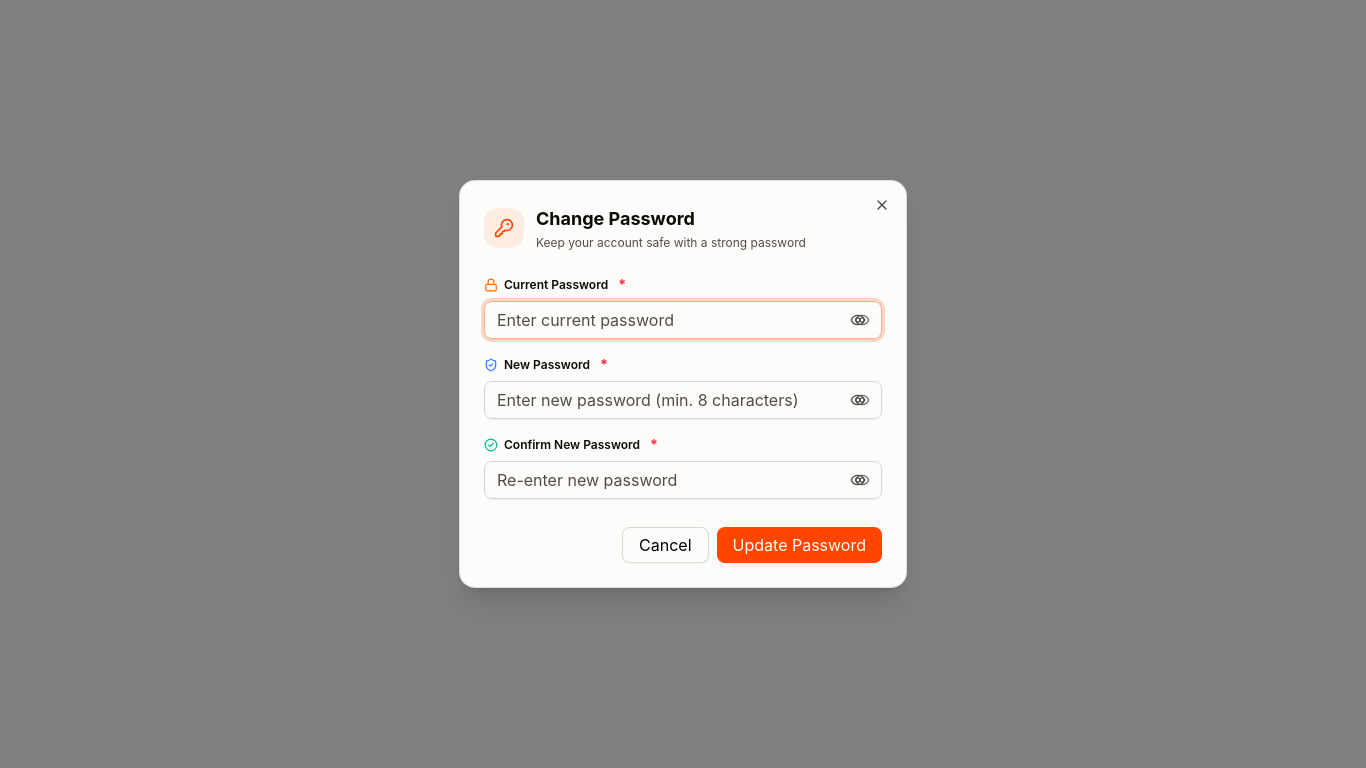
Test case: ChangePasswordDialog › toggles current password visibility on eye button click
Click the button named "Show current password": (858, 320) [846,308,870,332]
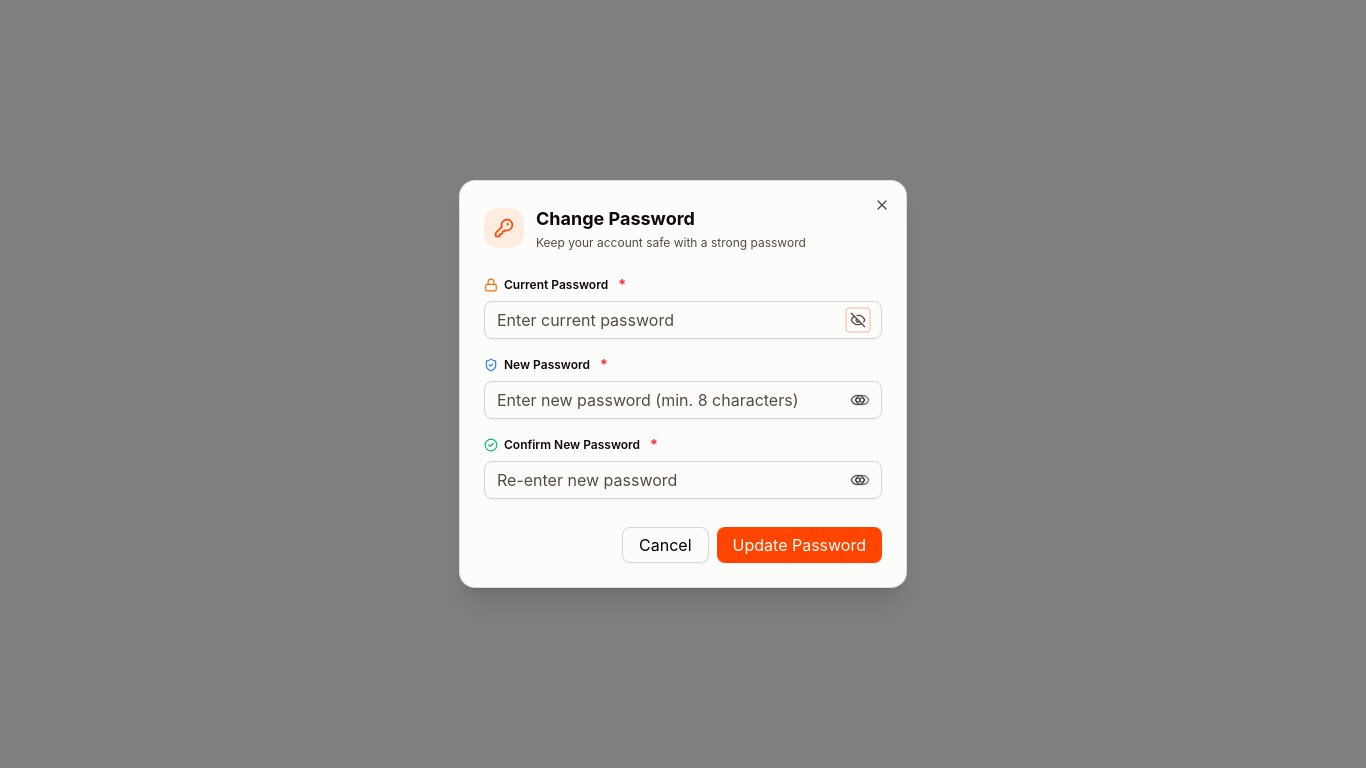
Expected: the button named "Hide current password" is shown, [846,308,870,332]
